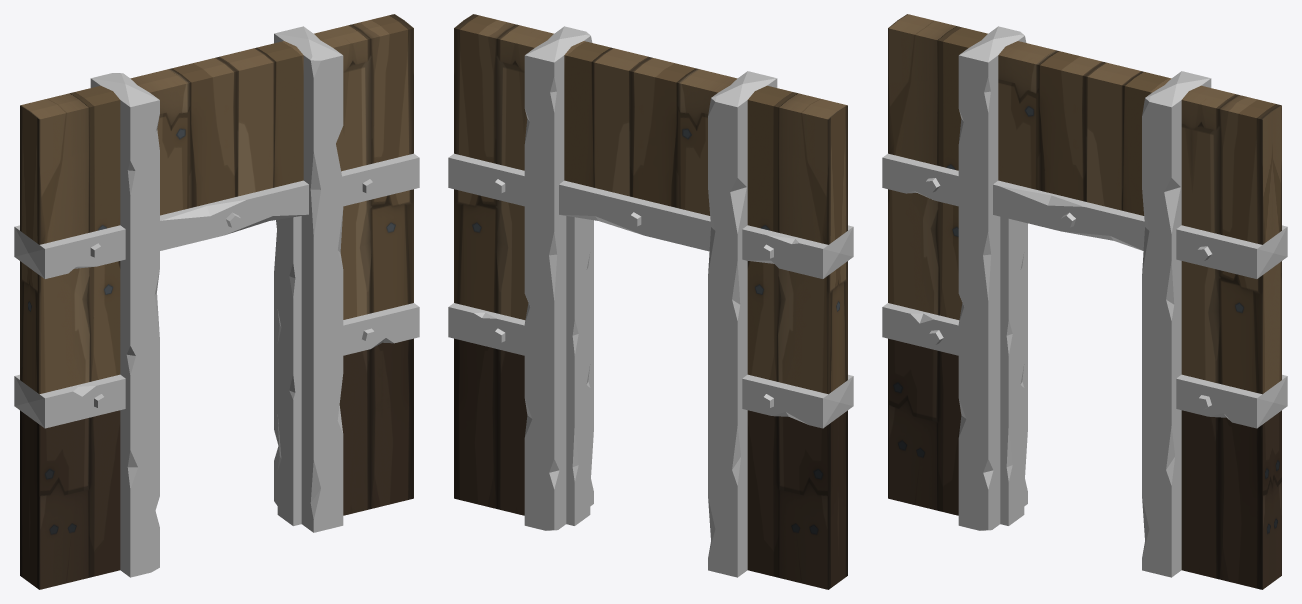
The model's file is SM_Bld_Wall_Door_01.fbx.
The picture shows the model from 3 angles, left to right: view 1: azimuth 30°, elevation 25°; view 2: azimuth 150°, elevation 25°; view 3: azimuth 330°, elevation 25°; orthographic projection.
Parts seen in each view (by area): view 1: SM_Bld_Wall_Door_01; view 2: SM_Bld_Wall_Door_01; view 3: SM_Bld_Wall_Door_01.
Boxes of the visible parts, left/top/right/bottom form: SM_Bld_Wall_Door_01: left=14, top=14, right=419, bottom=589; SM_Bld_Wall_Door_01: left=448, top=14, right=853, bottom=589; SM_Bld_Wall_Door_01: left=882, top=14, right=1287, bottom=589.
Bounding box in the file's own units: 252 × 304 × 45.85.
